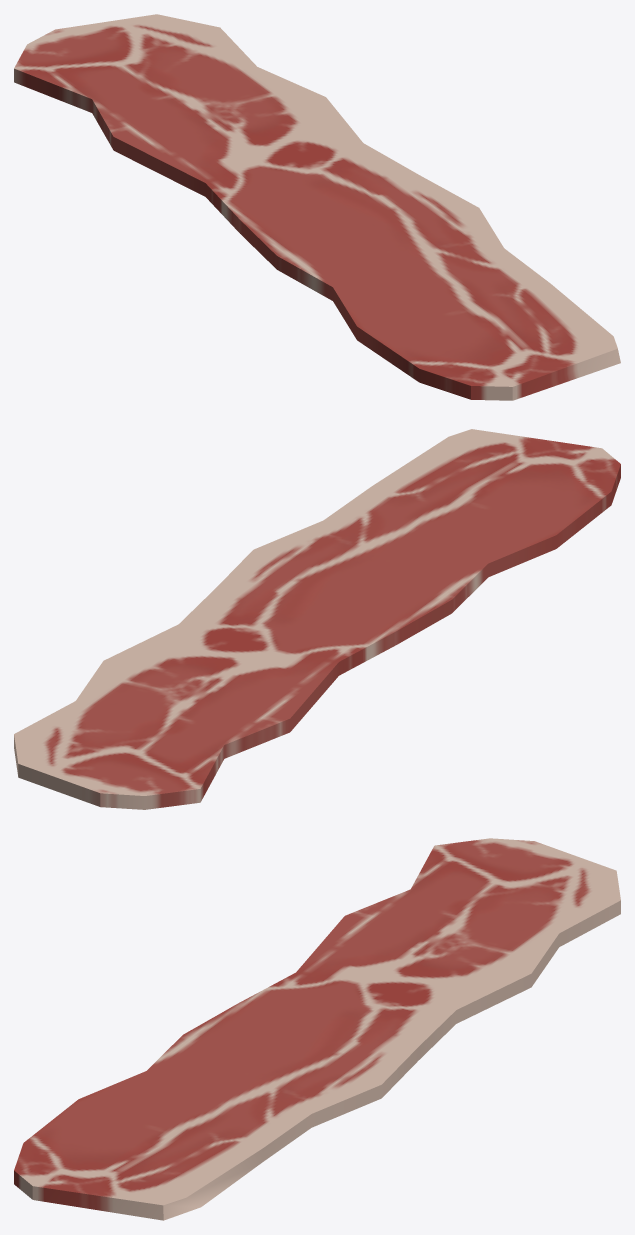
The model's file is bacon.FBX.
The picture shows the model from 3 angles, top to bottom: view 1: azimuth 30°, elevation 25°; view 2: azimuth 150°, elevation 25°; view 3: azimuth 330°, elevation 25°; orthographic projection.
Visible parts, largest first — view 1: bacon; view 2: bacon; view 3: bacon.
Boxes of the visible parts, x1,y1,x2,y2 form: bacon: (14, 14, 620, 400); bacon: (14, 429, 620, 809); bacon: (14, 838, 620, 1220).
Bounding box in the file's own units: 4.78 × 0.2976 × 18.66.
